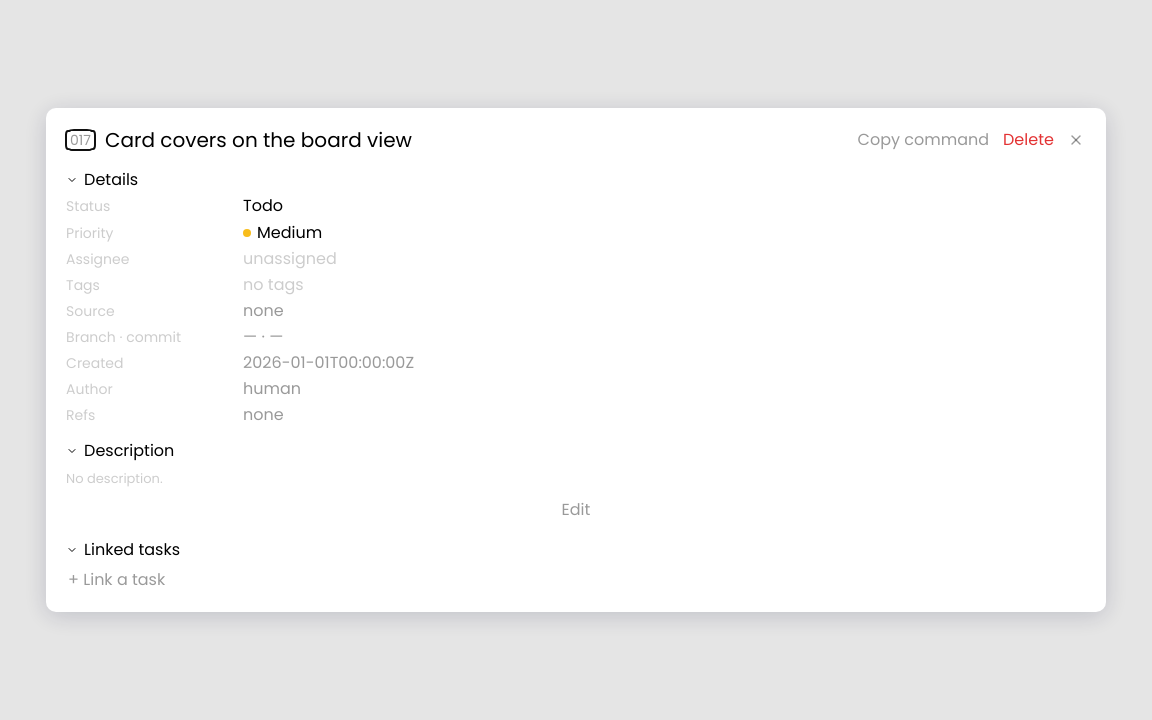
Test: TaskModal › copies the show command and shows a brief confirmation
Click the button "Copy command".
click(923, 140)  # box [856,128,991,152]
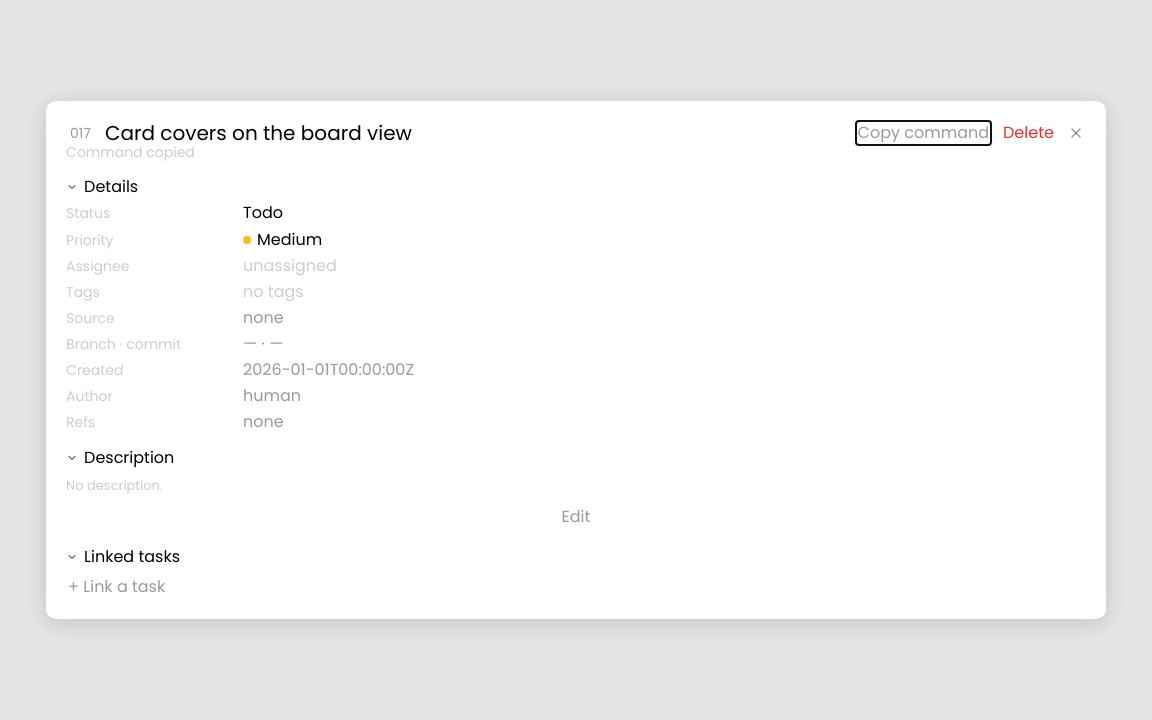
Result: the text "Command copied" is shown at [66,142,195,162]
